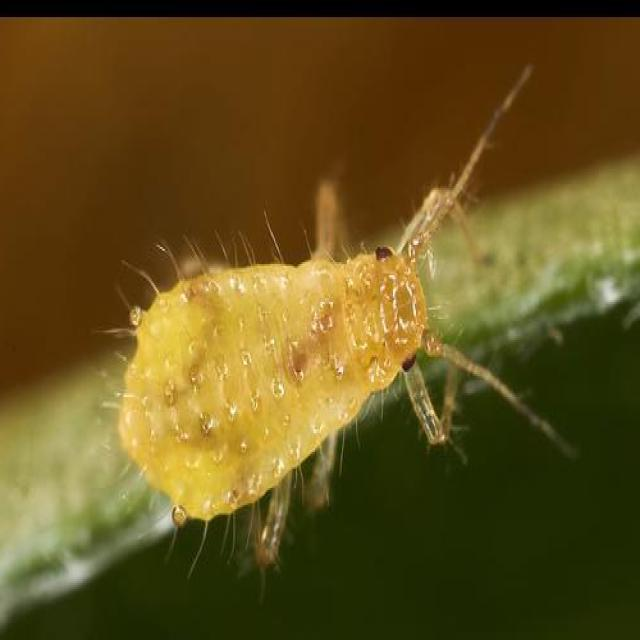aphid: (110, 169, 547, 541)
